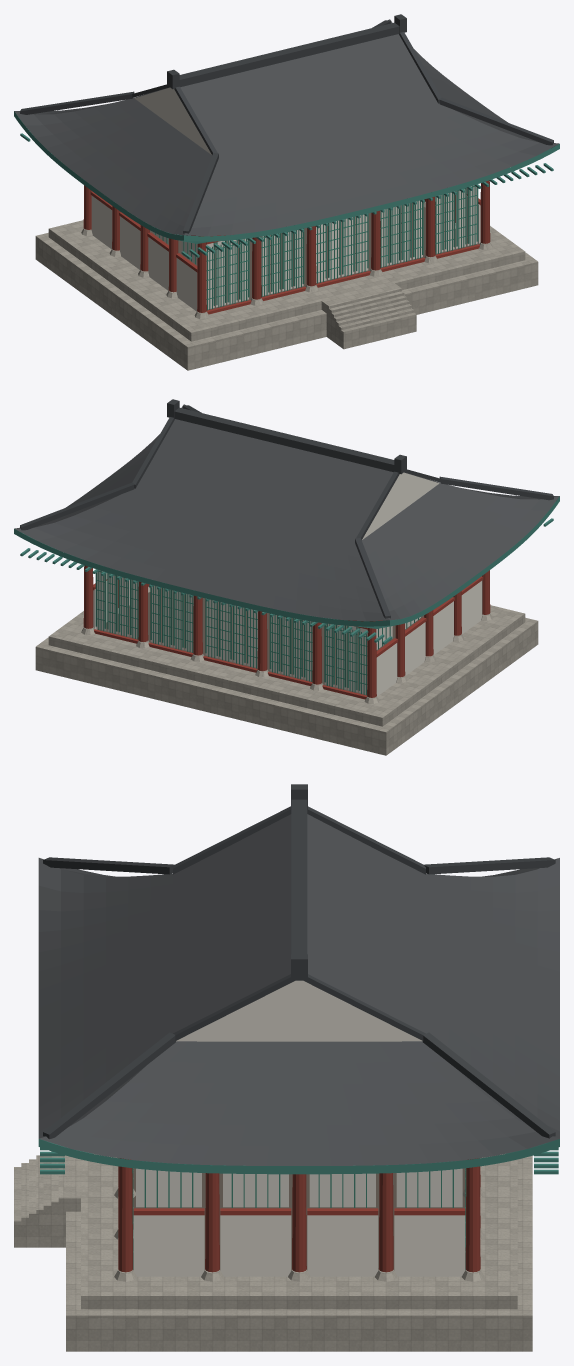
The picture shows the model from 3 angles, top to bottom: view 1: azimuth 30°, elevation 25°; view 2: azimuth 150°, elevation 25°; view 3: azimuth 270°, elevation 25°; orthographic projection. The views are drawn at different scales.
Parts seen in each view (by area): view 1: jeonggakwon__roof_tile, jeonggakwon__granite_base, jeonggakwon__lattice_green, jeonggakwon__ridge_dark, jeonggakwon__paper_white, jeonggakwon__plaster_white, jeonggakwon__column_red, jeonggakwon__rafter_paint, jeonggakwon__entrance_paper, jeonggakwon__board_blank, jeonggakwon__dancheong_red; view 2: jeonggakwon__roof_tile, jeonggakwon__granite_base, jeonggakwon__lattice_green, jeonggakwon__paper_white, jeonggakwon__ridge_dark, jeonggakwon__plaster_white, jeonggakwon__column_red, jeonggakwon__rafter_paint, jeonggakwon__board_blank, jeonggakwon__dancheong_red; view 3: jeonggakwon__roof_tile, jeonggakwon__granite_base, jeonggakwon__plaster_white, jeonggakwon__ridge_dark, jeonggakwon__paper_white, jeonggakwon__column_red, jeonggakwon__rafter_paint, jeonggakwon__dancheong_red, jeonggakwon__board_blank, jeonggakwon__lattice_green.
Boxes of the visible parts, x1,y1,x2,y2 form: jeonggakwon__roof_tile: (14,19,559,236); jeonggakwon__granite_base: (35,201,538,370); jeonggakwon__lattice_green: (155,186,478,310); jeonggakwon__ridge_dark: (20,14,553,235); jeonggakwon__paper_white: (153,185,477,309); jeonggakwon__plaster_white: (91,87,480,311); jeonggakwon__column_red: (83,180,490,312); jeonggakwon__rafter_paint: (14,111,559,259); jeonggakwon__entrance_paper: (316,214,368,282); jeonggakwon__board_blank: (150,203,476,310); jeonggakwon__dancheong_red: (90,191,480,314); jeonggakwon__roof_tile: (14,404,559,621); jeonggakwon__granite_base: (35,586,538,755); jeonggakwon__lattice_green: (95,571,418,695); jeonggakwon__paper_white: (96,570,420,694); jeonggakwon__ridge_dark: (20,399,553,620); jeonggakwon__plaster_white: (93,472,482,696); jeonggakwon__column_red: (83,565,490,697); jeonggakwon__rafter_paint: (14,496,559,644); jeonggakwon__board_blank: (97,588,423,695); jeonggakwon__dancheong_red: (93,576,483,699); jeonggakwon__roof_tile: (38,814,559,1165); jeonggakwon__granite_base: (14,1151,532,1351); jeonggakwon__plaster_white: (133,980,465,1276); jeonggakwon__ridge_dark: (43,784,555,1139); jeonggakwon__paper_white: (136,1168,462,1207); jeonggakwon__column_red: (118,1158,480,1272); jeonggakwon__rafter_paint: (38,1139,559,1174); jeonggakwon__dancheong_red: (133,1208,465,1215); jeonggakwon__board_blank: (133,1168,465,1270); jeonggakwon__lattice_green: (132,1168,466,1269).
Size of the model in its own units: 26.8 by 15.5 by 22.
12 materials, 1 textured.
